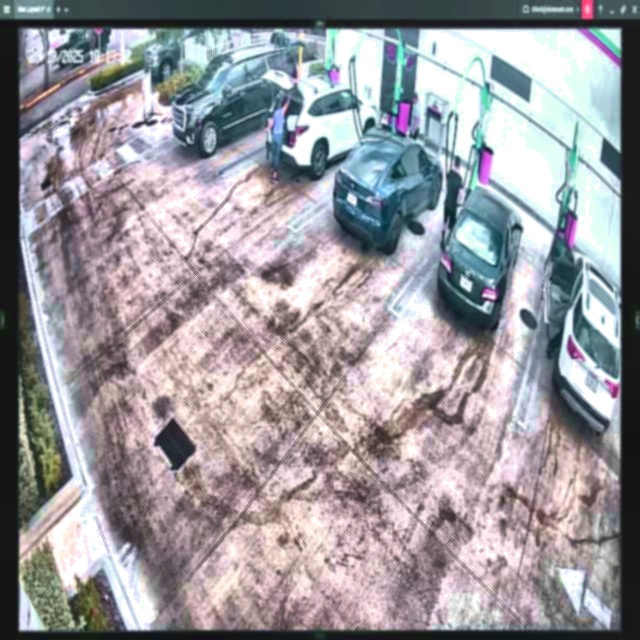Car: (337, 124, 443, 250), (262, 65, 378, 173), (440, 186, 523, 331)
